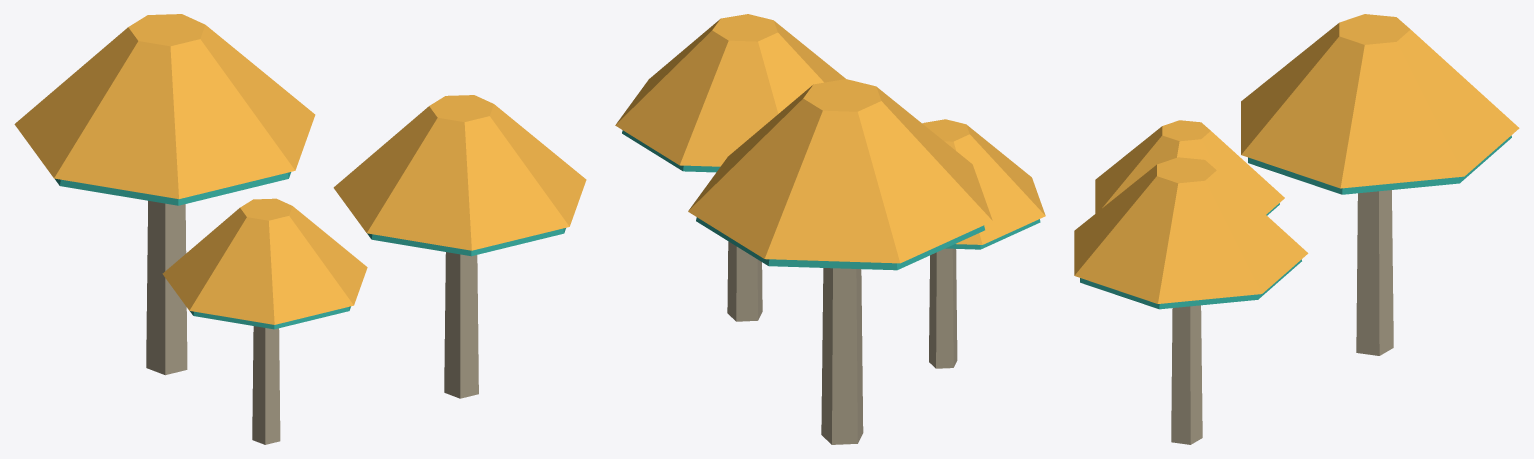
Rendered from GlowMushroom_A.fbx.
The picture shows the model from 3 angles, left to right: view 1: azimuth 30°, elevation 25°; view 2: azimuth 150°, elevation 25°; view 3: azimuth 270°, elevation 25°; orthographic projection. The views are drawn at different scales.
Parts seen in each view (by area): view 1: GlowMushroom_A; view 2: GlowMushroom_A; view 3: GlowMushroom_A.
Boxes of the visible parts, x1=… form: GlowMushroom_A: x1=14, y1=14, x2=586, y2=444; GlowMushroom_A: x1=615, y1=14, x2=1045, y2=444; GlowMushroom_A: x1=1074, y1=14, x2=1519, y2=444.
Size of the model in its own units: 0.6781 by 0.5 by 0.6339.
1 material, 1 textured.
